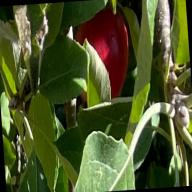Apples: (72, 5, 132, 100)
